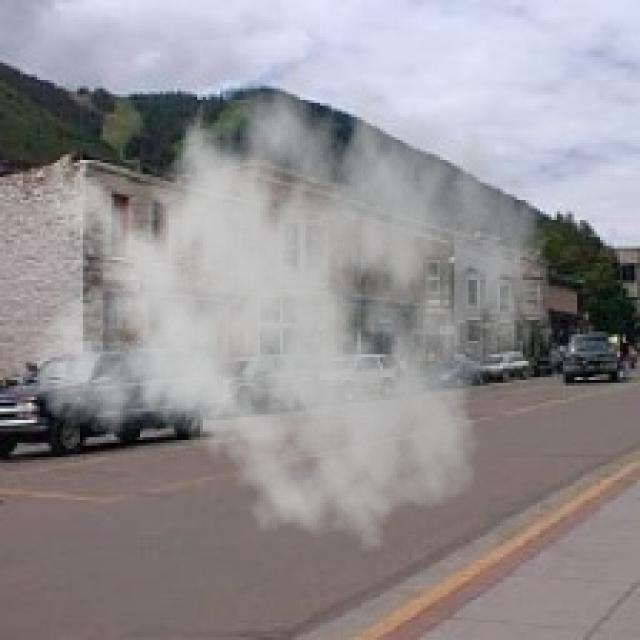smoke: (29, 31, 548, 566)
